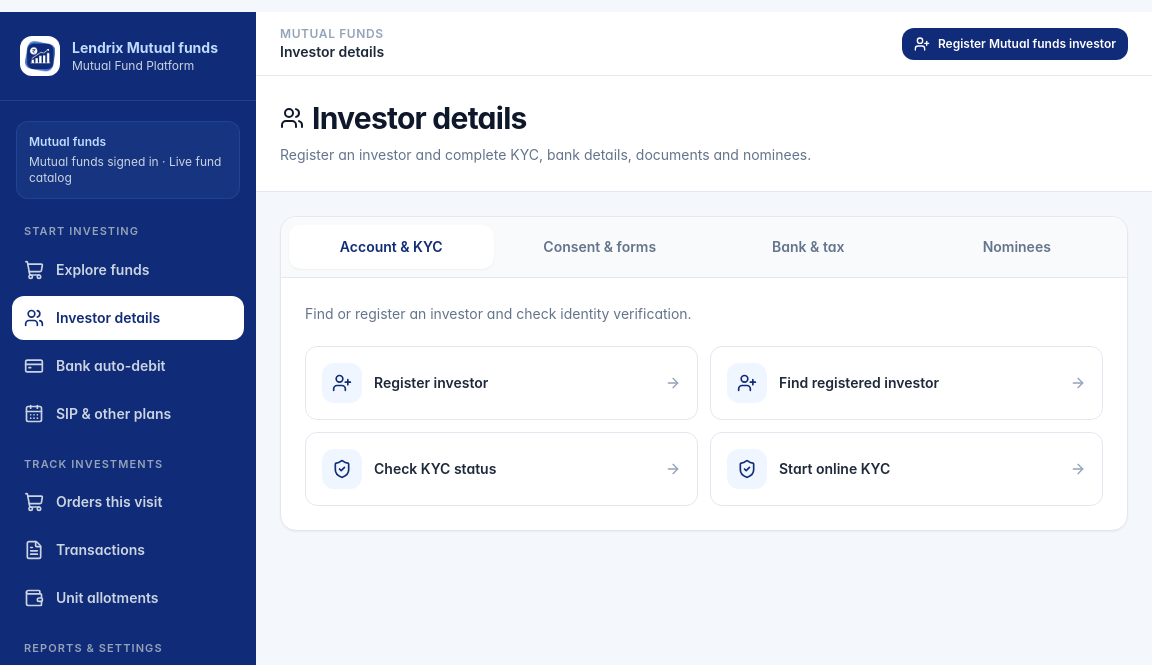
Scenario: Mutual funds document navigation › opens client management and keeps unsupported admin actions disabled
The image size is (1152, 665).
Click the button "Investor details" at (128, 318), box left=12, top=296, right=244, bottom=340
(page scrolled)
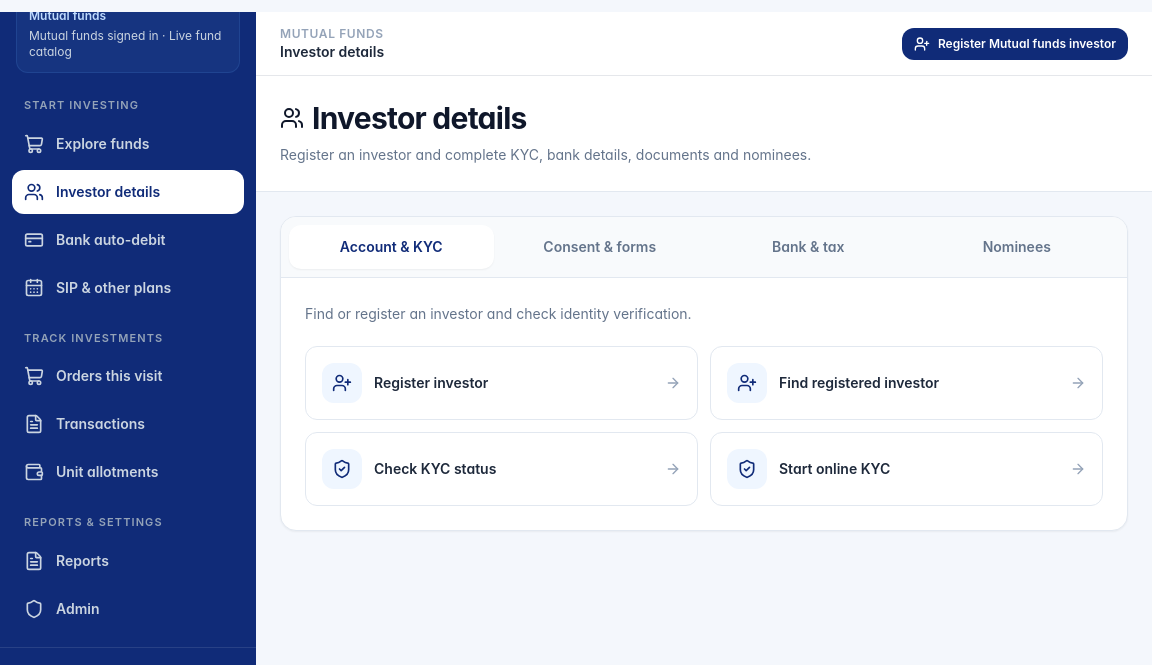
Expected: the heading "Investor details" is shown, left=280, top=100, right=527, bottom=136
Click the button "Admin" at (128, 608), box left=12, top=586, right=244, bottom=630
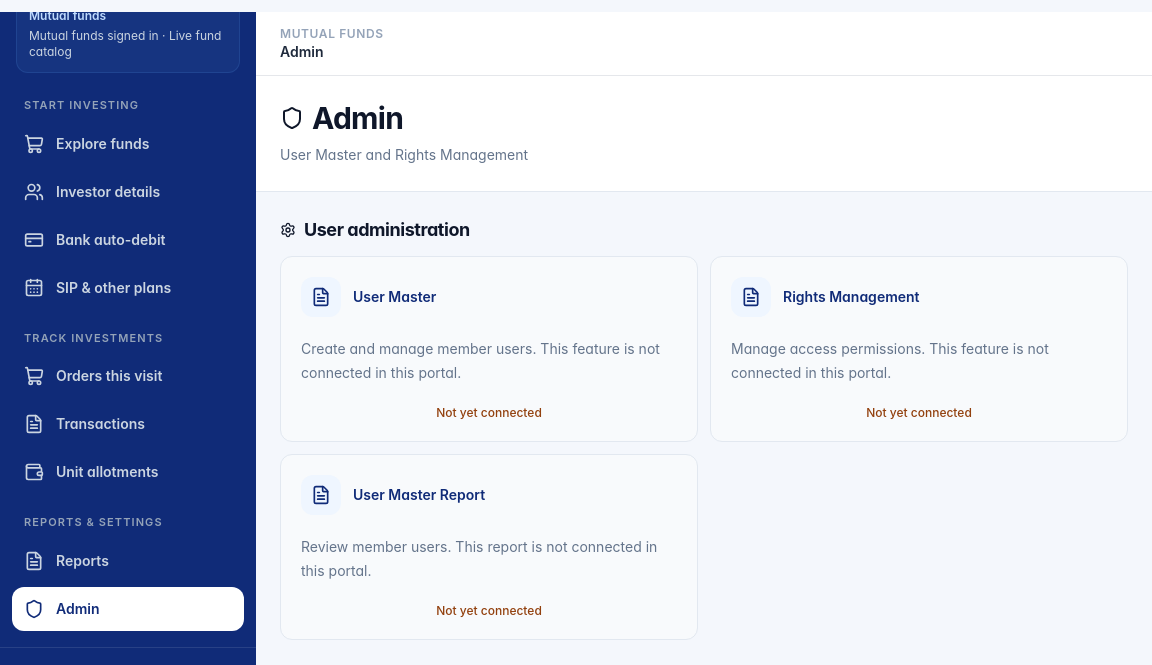
Now the button "User Master" is disabled, box left=280, top=256, right=698, bottom=442
Now the button "Rights Management" is disabled, box left=710, top=256, right=1128, bottom=442
